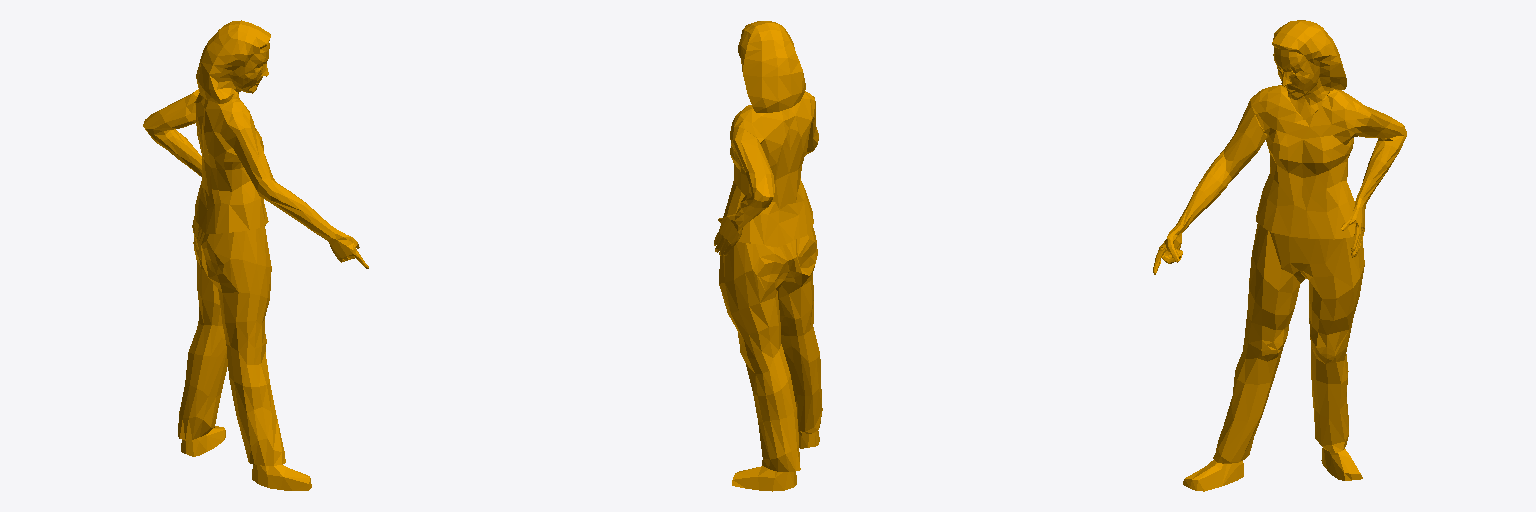
robot.urdf — woman_pointing:
<?xml version="1.0" ?>
<robot name="woman_pointing">
  <!-- A standing woman, pointing down with her right hand,
       hand position just high enough for the Tiago bar counter.
       Playing with two collision volumes: a cylinder for keeping
       balance, plus the mesh to have the pointing hand in 
       Pointclouds...
  -->

  <link name="woman_pointing_footprint">
    <inertial>
      <mass value="62" />
      <origin xyz="0 0 0.9" />
      <inertia ixx="1" ixy="0" ixz="0" iyy="1" iyz="0" izz="1" />
    </inertial>
    <collision>
      <origin xyz="0 0 0.9" rpy="0 0 -1.57" />
      <geometry>
        <cylinder radius="0.33" length="1.9" />
      </geometry>
    </collision>
    <collision>
      <geometry>
        <origin xyz="0 0 0" rpy="0 0 -1.57" />
        <mesh filename="package://tiago_bartender_world/meshes/woman_pointing.dae" scale="1.05 1.05 1.05"/>
      </geometry>
    </collision>
    <visual>
      <origin xyz="0 0 0" rpy="0 0 -1.57" />
      <geometry>
        <mesh filename="package://tiago_bartender_world/meshes/woman_pointing.dae" scale="1.05 1.05 1.05"/>
      </geometry>
    </visual>
  </link>

</robot>

--- Render facts (derived) ---
Views: 3 orthographic renders of the robot side by side, from view 1: azimuth 30°, elevation 25°; view 2: azimuth 150°, elevation 25°; view 3: azimuth 270°, elevation 25°.
Robot: woman_pointing — 1 links, 0 joints (none); root link woman_pointing_footprint; default pose: every joint at zero.
Visible links, largest first — view 1: woman_pointing_footprint; view 2: woman_pointing_footprint; view 3: woman_pointing_footprint.
Link boxes in pixels (x1=…): woman_pointing_footprint: x1=143, y1=20, x2=368, y2=490; woman_pointing_footprint: x1=714, y1=21, x2=822, y2=491; woman_pointing_footprint: x1=1153, y1=20, x2=1406, y2=491.
Bounding box of the posed robot: 0.4731 × 0.875 × 1.74 m (x, y, z).
1 mesh visuals loaded from 1 distinct referenced files (1 Collada DAE).
